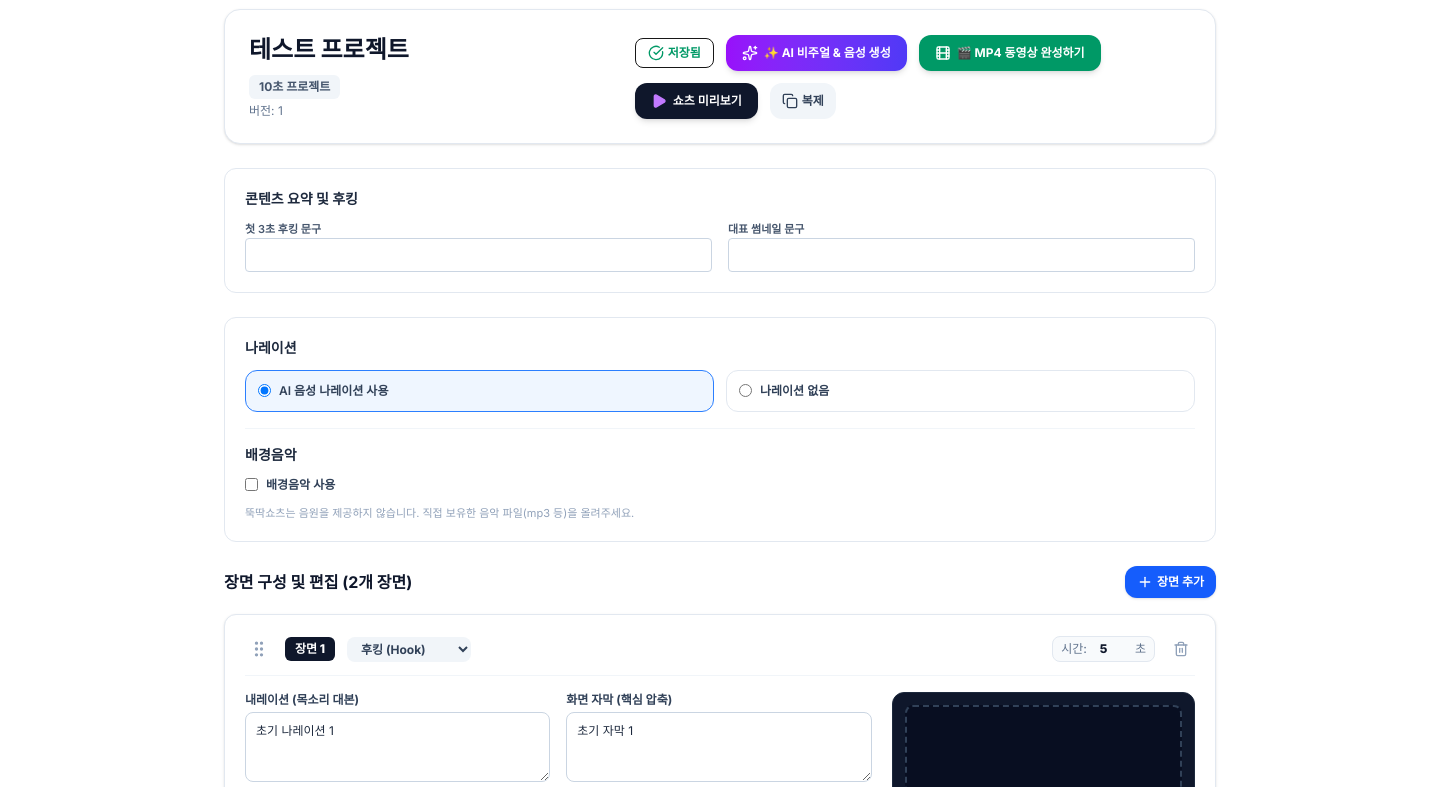
Test: SceneEditor 자동저장 버전 동기화 (2026-08-04 SAVE_CONFLICT 회귀 재현/수정 검증) › 연속 두 번의 편집·자동저장이 SAVE_CONFLICT 없이 버전을 1→2→3으로 올린다
expect the text "버전: 1" is shown: met, box top-left (249, 103), bottom-right (283, 118)
// 1차 편집: 씬 1 나레이션 수정
Replace the text in the 1st text box showing "초기 나레이션" with "수정된 나레이션 1차": (398, 747) top-left (245, 712), bottom-right (550, 782)
Wait 1600 ms
(page scrolled)
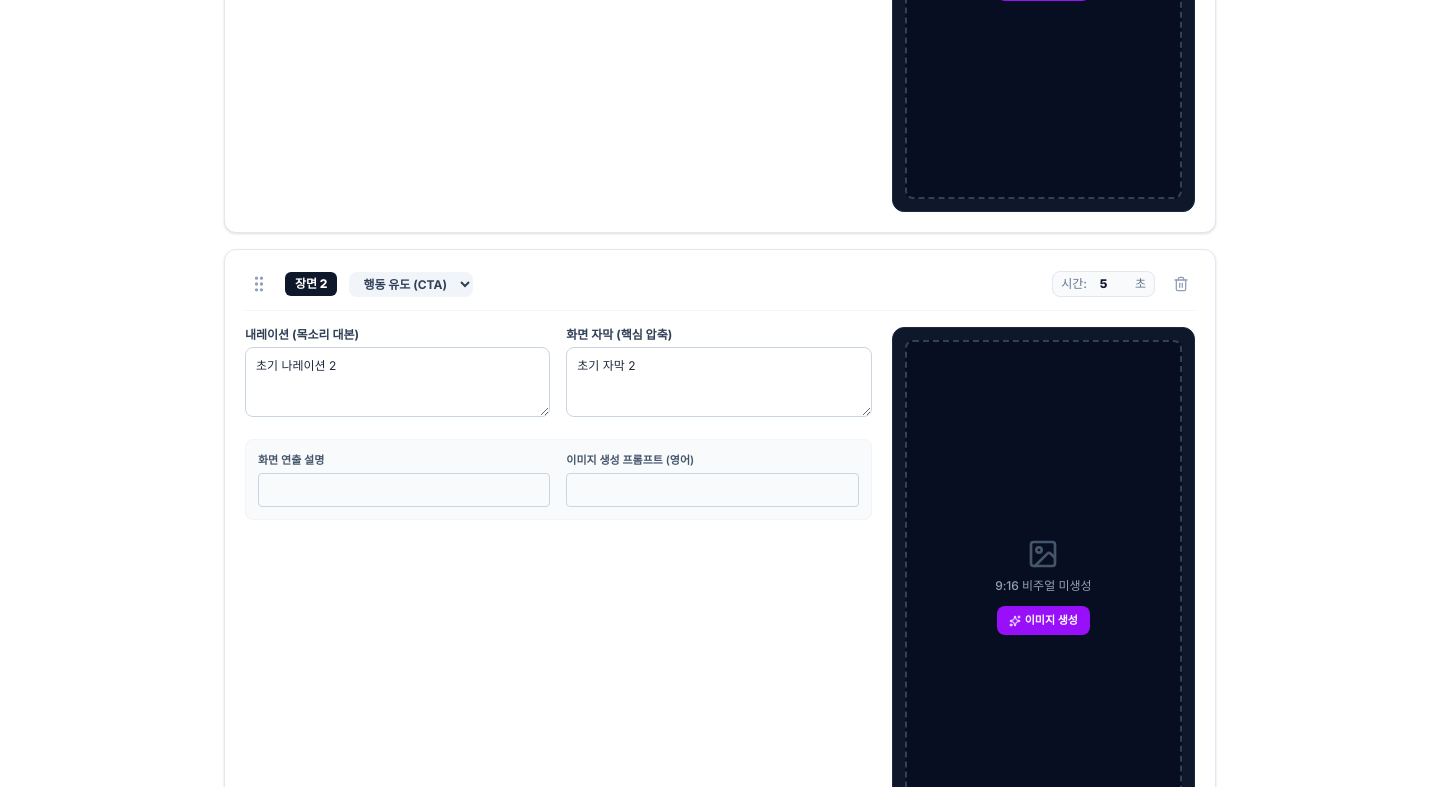
// 2차 편집: 씬 2 자막 수정 (같은 세션에서 이어서 편집)
Replace the text in the 2nd text box showing "초기 자막" with "수정된 자막 2차": (719, 382) top-left (566, 347), bottom-right (872, 417)
Wait 1600 ms
(page scrolled)
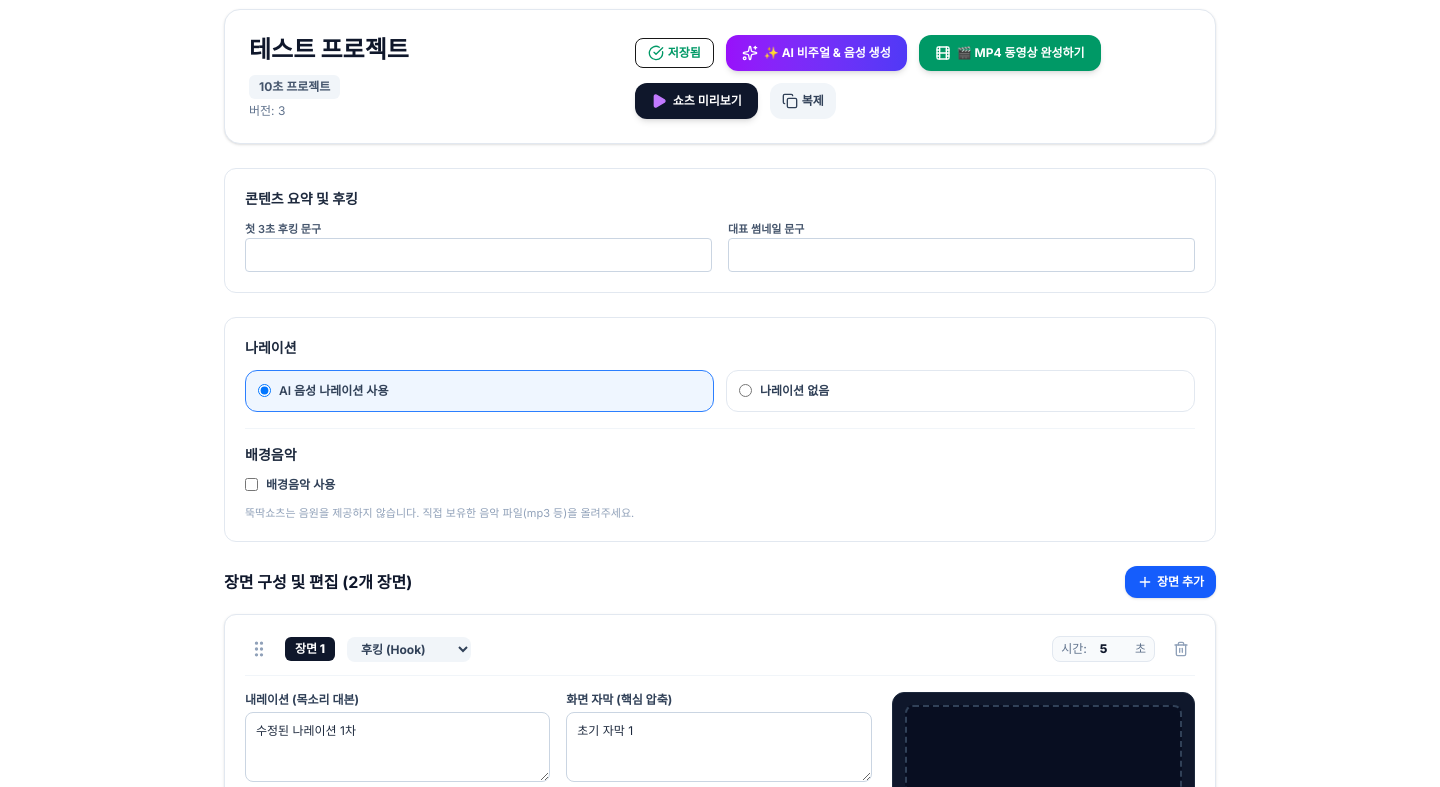
expect the text "버전: 3" is shown: met, box top-left (249, 103), bottom-right (285, 118)
